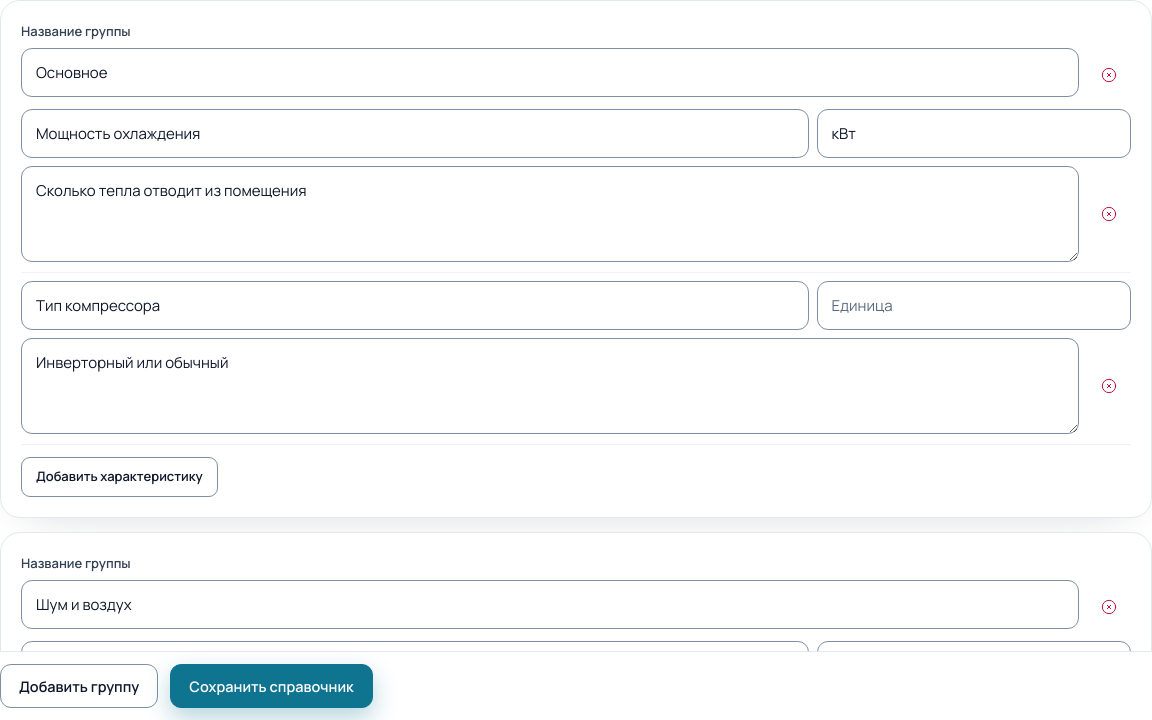
Test: Справочник характеристик › 🔴 удаление группы называет, сколько характеристик исчезнет вместе с ней
Click the button named "Удалить группу 1": (1109, 75) [1087, 53, 1131, 97]
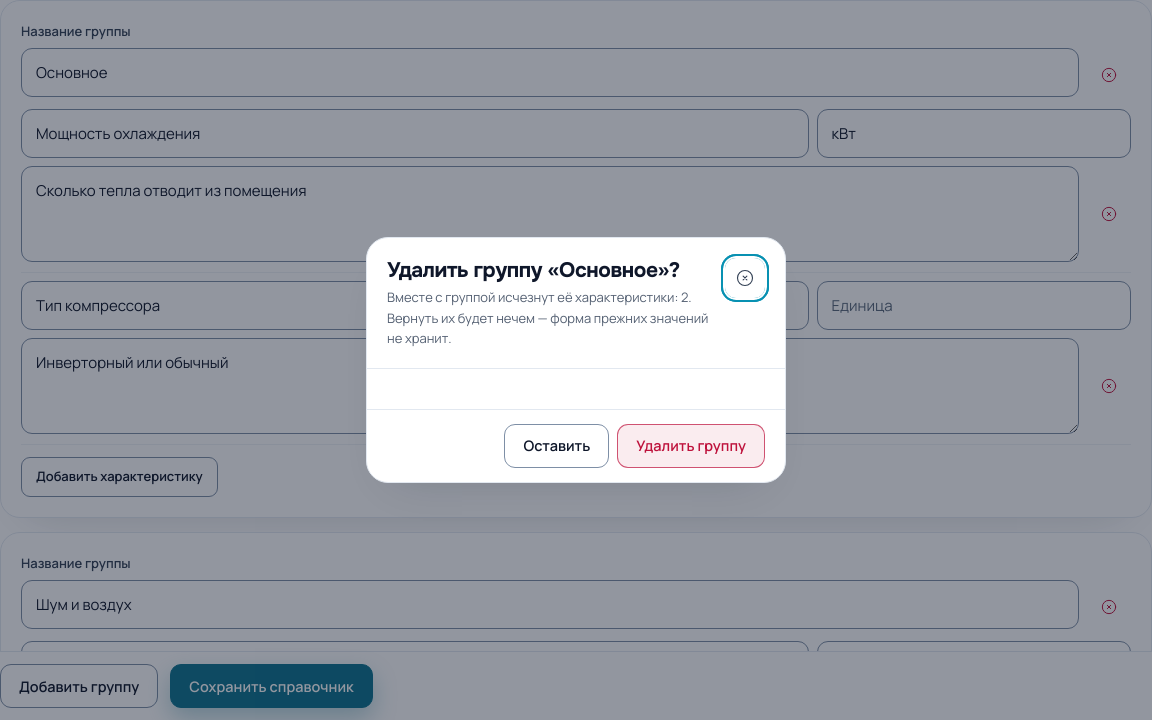
Click the button "Удалить группу": (691, 446) [617, 424, 765, 468]
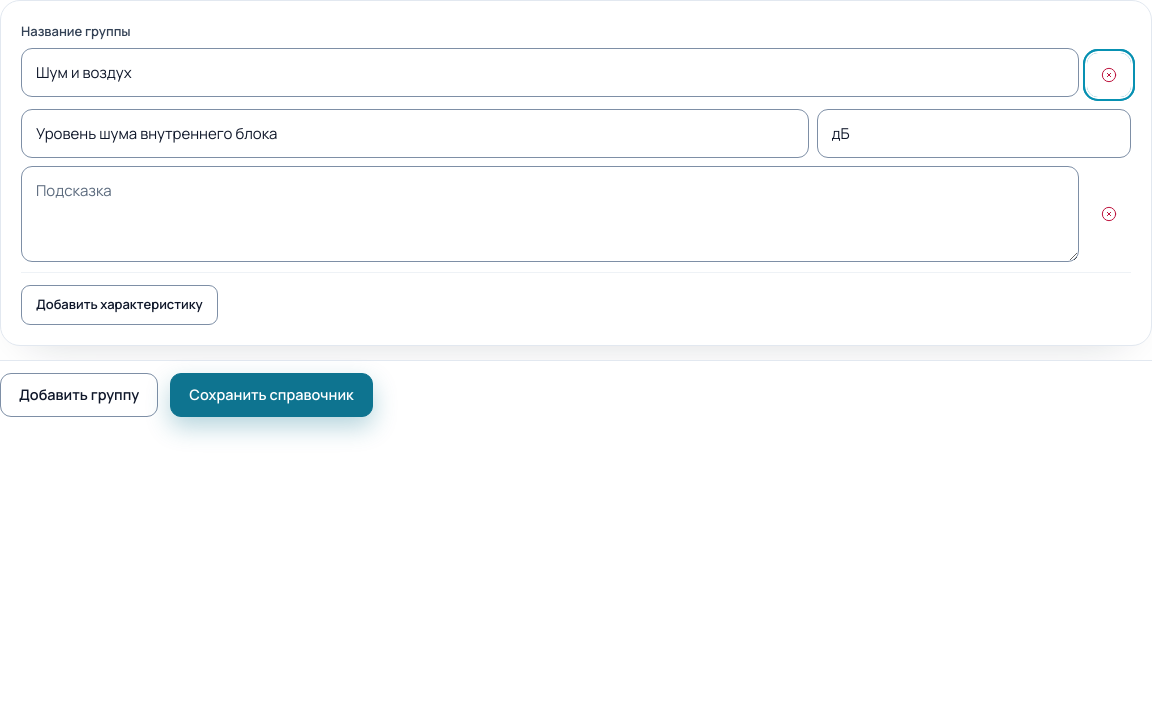
Expected: the heading showing "Основное" is gone
